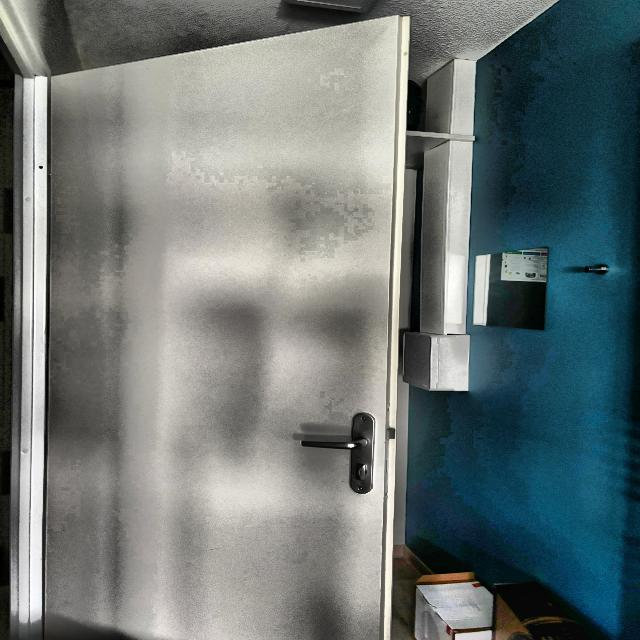mesa: (20, 14, 423, 640)
